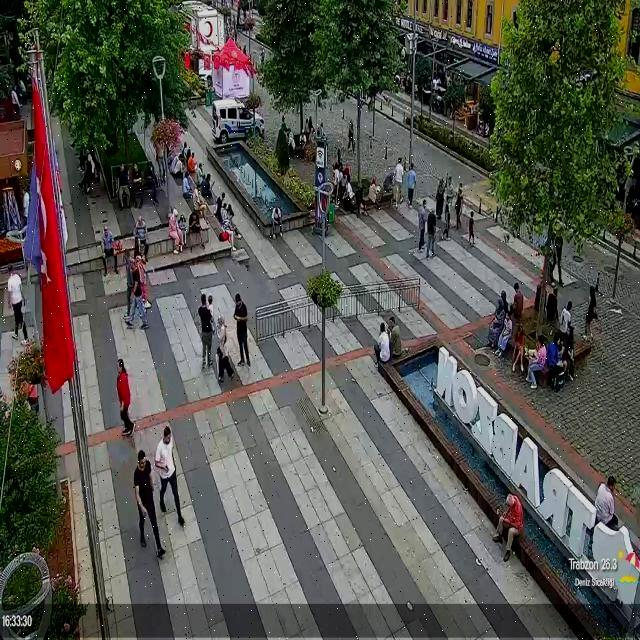Car: (202, 100, 272, 150)
